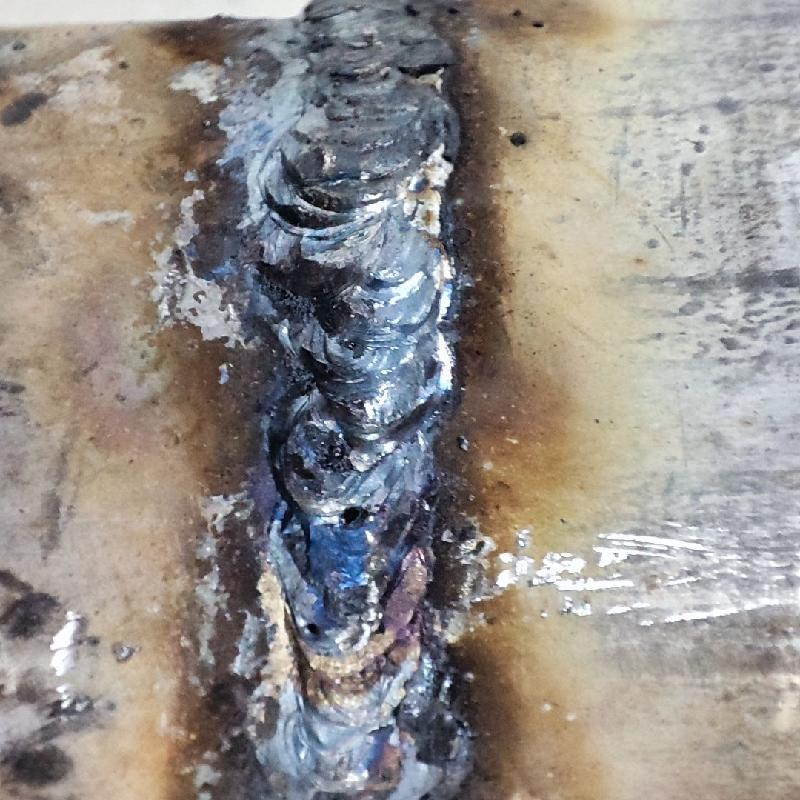Surface_pores: (323, 491, 383, 539), (292, 600, 327, 648)
